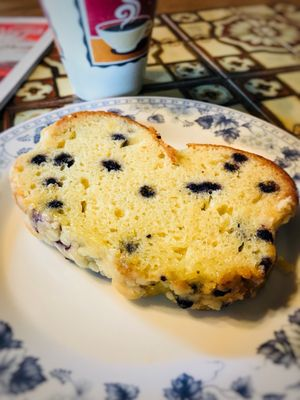sushi: (97, 16, 153, 54)
